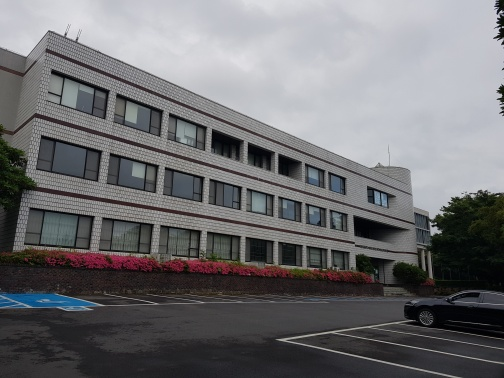Foreign Language Institute: (13, 28, 438, 292), (105, 147, 329, 231)
